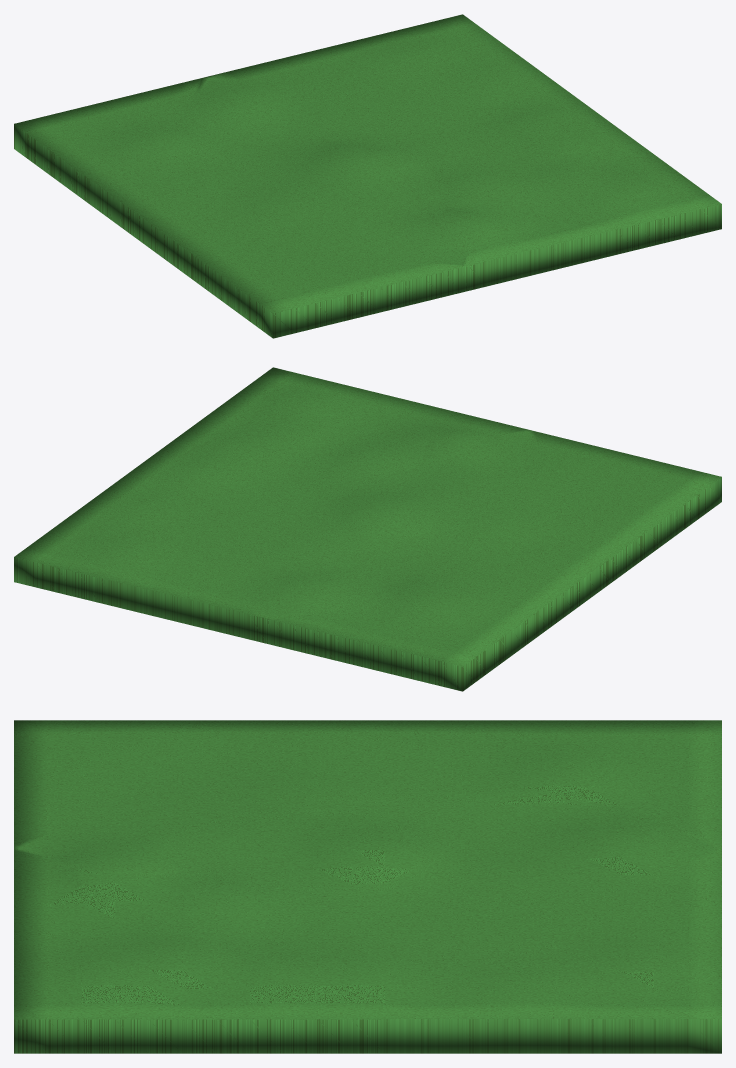
File: rock_kicking_park_ground_collision_test.glb
3 renders of one model, top to bottom at view 1: azimuth 30°, elevation 25°; view 2: azimuth 150°, elevation 25°; view 3: azimuth 270°, elevation 25°, orthographic. The views are drawn at different scales.
Parts seen in each view (by area): view 1: GroundIntactCollision-colonly; view 2: GroundIntactCollision-colonly; view 3: GroundIntactCollision-colonly.
Boxes of the visible parts, box(x1,y1,x2,y2) form: GroundIntactCollision-colonly: box(14, 14, 721, 338); GroundIntactCollision-colonly: box(14, 367, 721, 691); GroundIntactCollision-colonly: box(14, 720, 721, 1053).
Bounding box in the file's own units: 500 × 37.4 × 500.
1 material, 1 textured.
